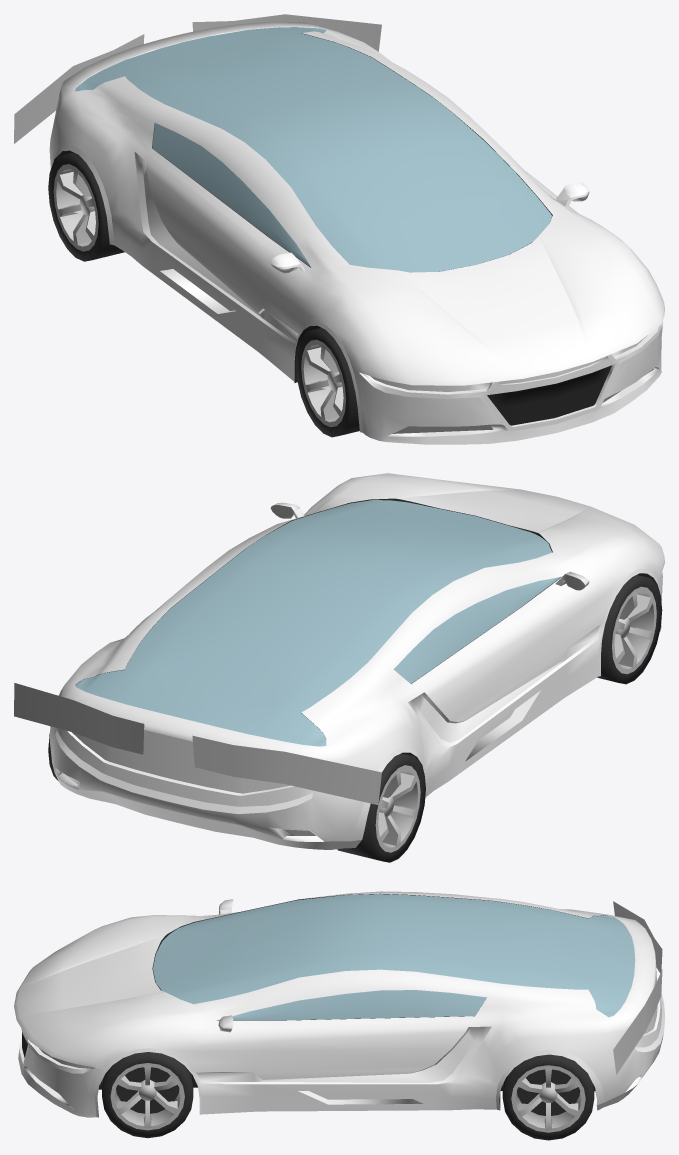
The model's file is Car High.fbx.
3 renders of one model, top to bottom at view 1: azimuth 30°, elevation 25°; view 2: azimuth 150°, elevation 25°; view 3: azimuth 270°, elevation 25°, orthographic. The views are drawn at different scales.
Parts seen in each view (by area): view 1: body1, wheel_BR, wheel_FR, glow1; view 2: body1, glow1, wheel_FR, wheel_BR; view 3: body1, wheel_FL, wheel_BL, glow1.
Boxes of the visible parts, bbox=[...] form: body1: bbox=[49, 21, 664, 444]; wheel_BR: bbox=[48, 152, 124, 261]; wheel_FR: bbox=[295, 328, 359, 437]; glow1: bbox=[14, 14, 381, 143]; body1: bbox=[49, 473, 664, 849]; glow1: bbox=[14, 683, 381, 804]; wheel_FR: bbox=[597, 575, 662, 684]; wheel_BR: bbox=[337, 753, 425, 862]; body1: bbox=[14, 891, 664, 1117]; wheel_FL: bbox=[102, 1052, 193, 1138]; wheel_BL: bbox=[502, 1054, 594, 1140]; glow1: bbox=[613, 901, 662, 1074].
Size of the model in its own units: 2.6 by 1.23 by 4.81.
